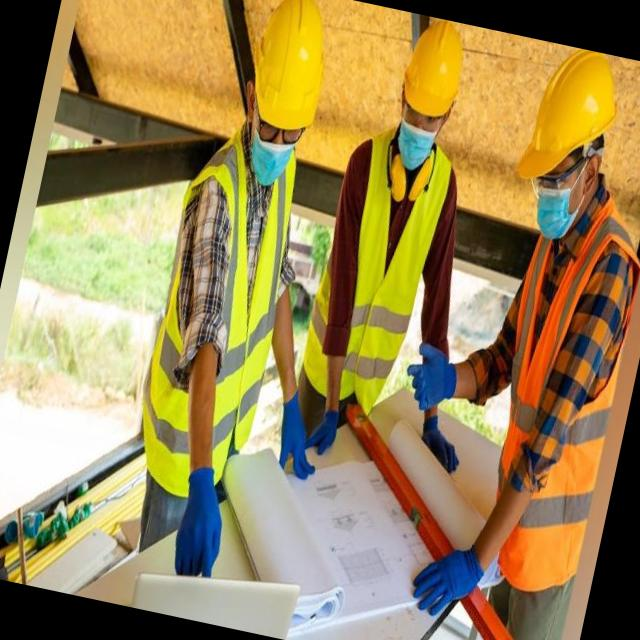Gloves: (164, 470, 238, 582), (262, 388, 326, 487), (406, 546, 474, 626), (397, 338, 468, 413), (412, 417, 469, 471), (304, 399, 346, 459)
Helmet: (514, 49, 627, 200), (230, 0, 341, 124), (387, 12, 476, 126)
Vest: (122, 131, 310, 481), (457, 230, 640, 583), (299, 126, 442, 420)
